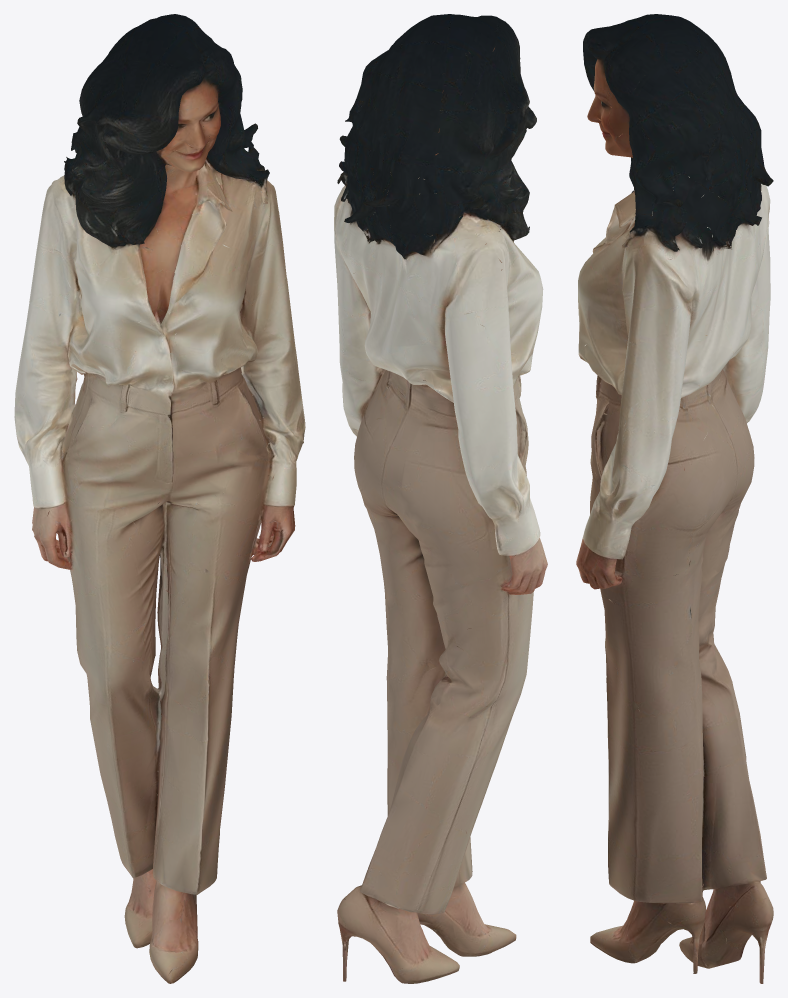
The model's file is female_avatar_2.glb.
3 renders of one model, left to right at view 1: azimuth 30°, elevation 25°; view 2: azimuth 150°, elevation 25°; view 3: azimuth 270°, elevation 25°, orthographic.
Visible parts, largest first — view 1: Object_4, Object_5, Object_6; view 2: Object_4, Object_5, Object_6; view 3: Object_4, Object_6, Object_5.
Boxes of the visible parts, <box> form: Object_4: <box>32,14,305,983</box>; Object_5: <box>14,28,257,983</box>; Object_6: <box>148,22,288,888</box>; Object_4: <box>334,14,542,983</box>; Object_5: <box>337,21,547,973</box>; Object_6: <box>339,29,443,981</box>; Object_4: <box>576,14,773,968</box>; Object_6: <box>580,41,772,983</box>; Object_5: <box>582,22,773,973</box>.
Size of the model in its own units: 0.493 by 1.9 by 0.3618.
Materials: 1 (1 with a texture image).
